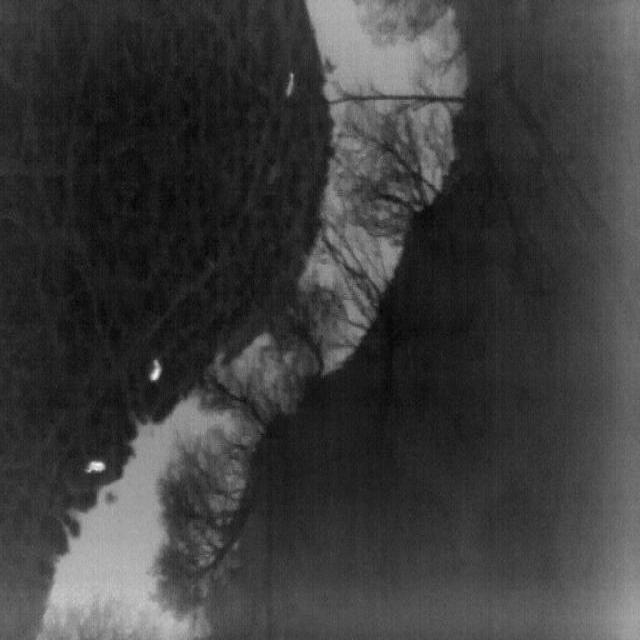deer: (148, 358, 163, 383), (84, 460, 107, 474), (284, 72, 296, 98)
